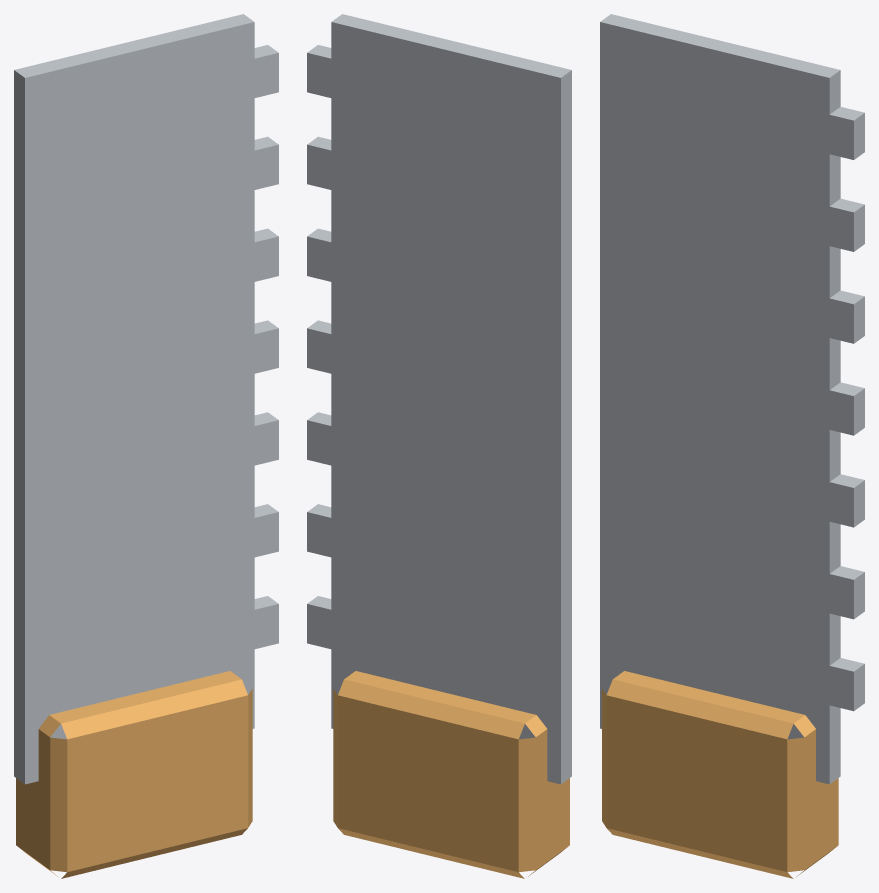
File: hand_saw_blade.glb
3 renders of one model, left to right at view 1: azimuth 30°, elevation 25°; view 2: azimuth 150°, elevation 25°; view 3: azimuth 330°, elevation 25°, orthographic.
Visible parts, largest first — view 1: MetalBody, HousingAccent; view 2: MetalBody, HousingAccent; view 3: MetalBody, HousingAccent.
Boxes of the visible parts, <box> form: MetalBody: <box>14,14,278,784</box>; HousingAccent: <box>16,671,252,878</box>; MetalBody: <box>307,14,571,784</box>; HousingAccent: <box>333,671,569,878</box>; MetalBody: <box>600,14,864,784</box>; HousingAccent: <box>602,671,838,878</box>.
Size of the model in its own units: 0.188 by 0.565 by 0.06.
